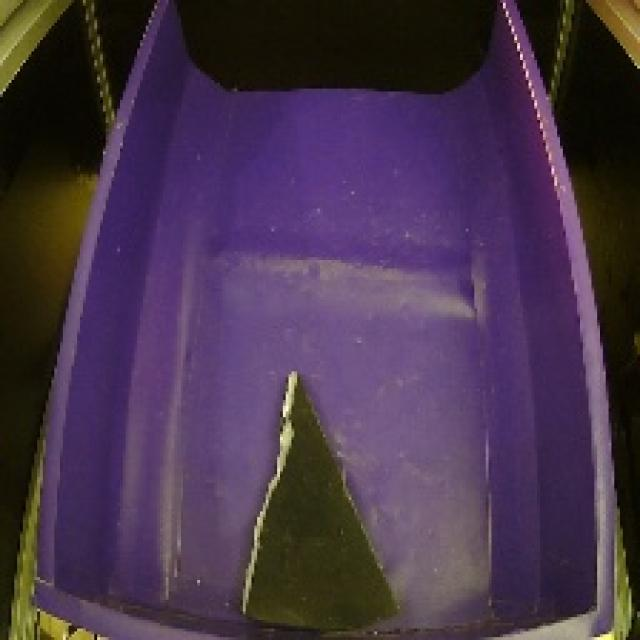china: (228, 357, 406, 640)
